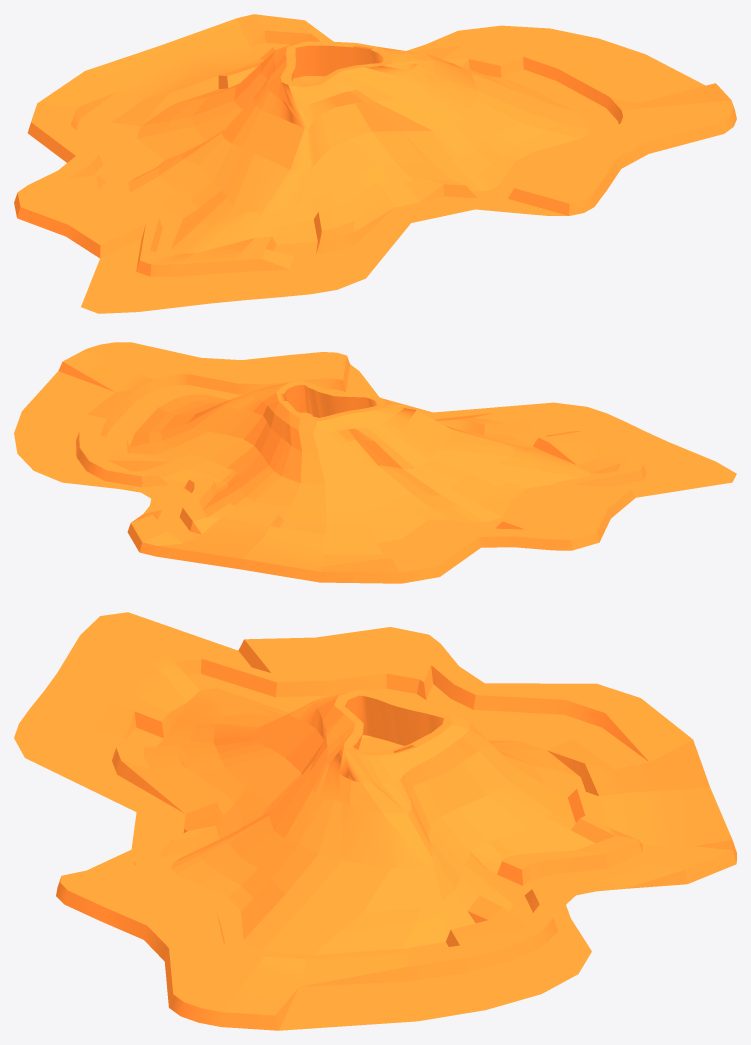
Rendered from geyser.fbx.
3 views of the same model, one above another, from view 1: azimuth 30°, elevation 25°; view 2: azimuth 150°, elevation 25°; view 3: azimuth 270°, elevation 25° (orthographic). The views are drawn at different scales.
Visible parts, largest first — view 1: Mesh; view 2: Mesh; view 3: Mesh.
Part boxes in pixels (x1,y1,x2,y2): Mesh: (14, 14, 736, 313); Mesh: (14, 342, 736, 583); Mesh: (14, 612, 736, 1030).
Bounding box in the file's own units: 43450 × 4877 × 31718.
